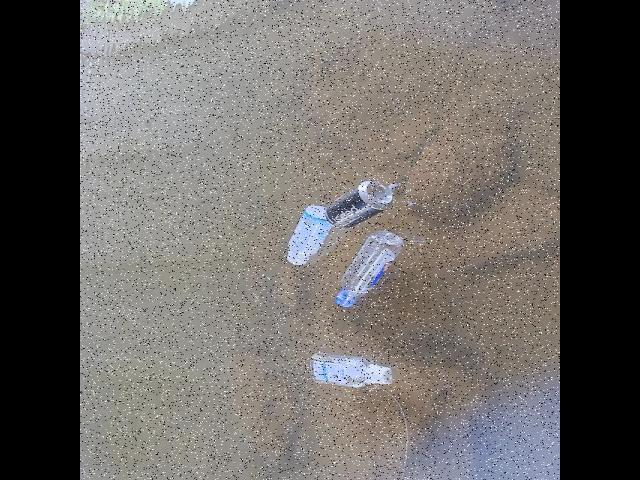Bottle: (332, 224, 408, 314), (303, 346, 397, 394), (326, 170, 402, 228), (280, 194, 332, 272)
